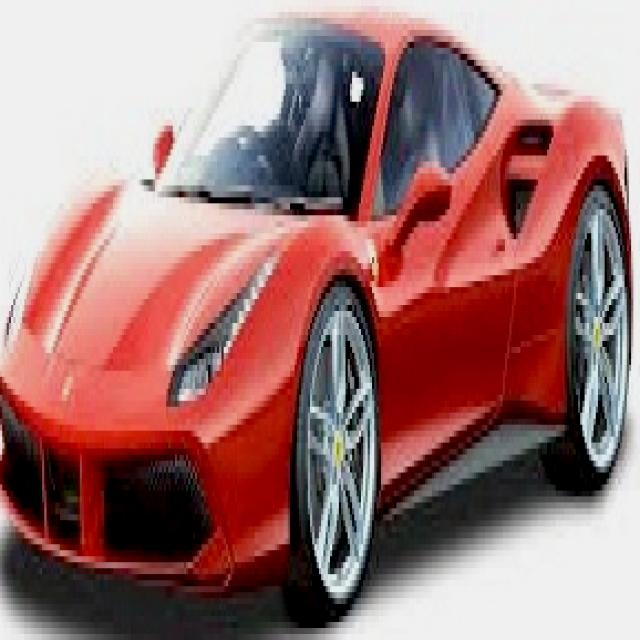red: (0, 0, 634, 604)
